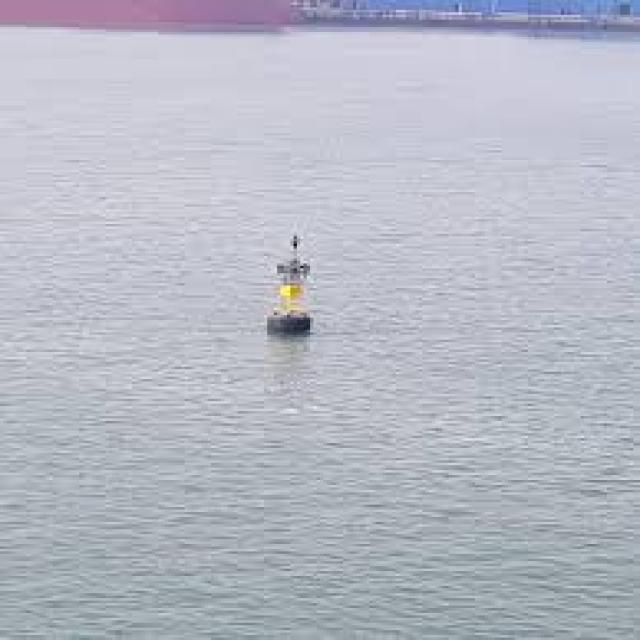2.2 cardinal mark -E-: (261, 223, 327, 346)
